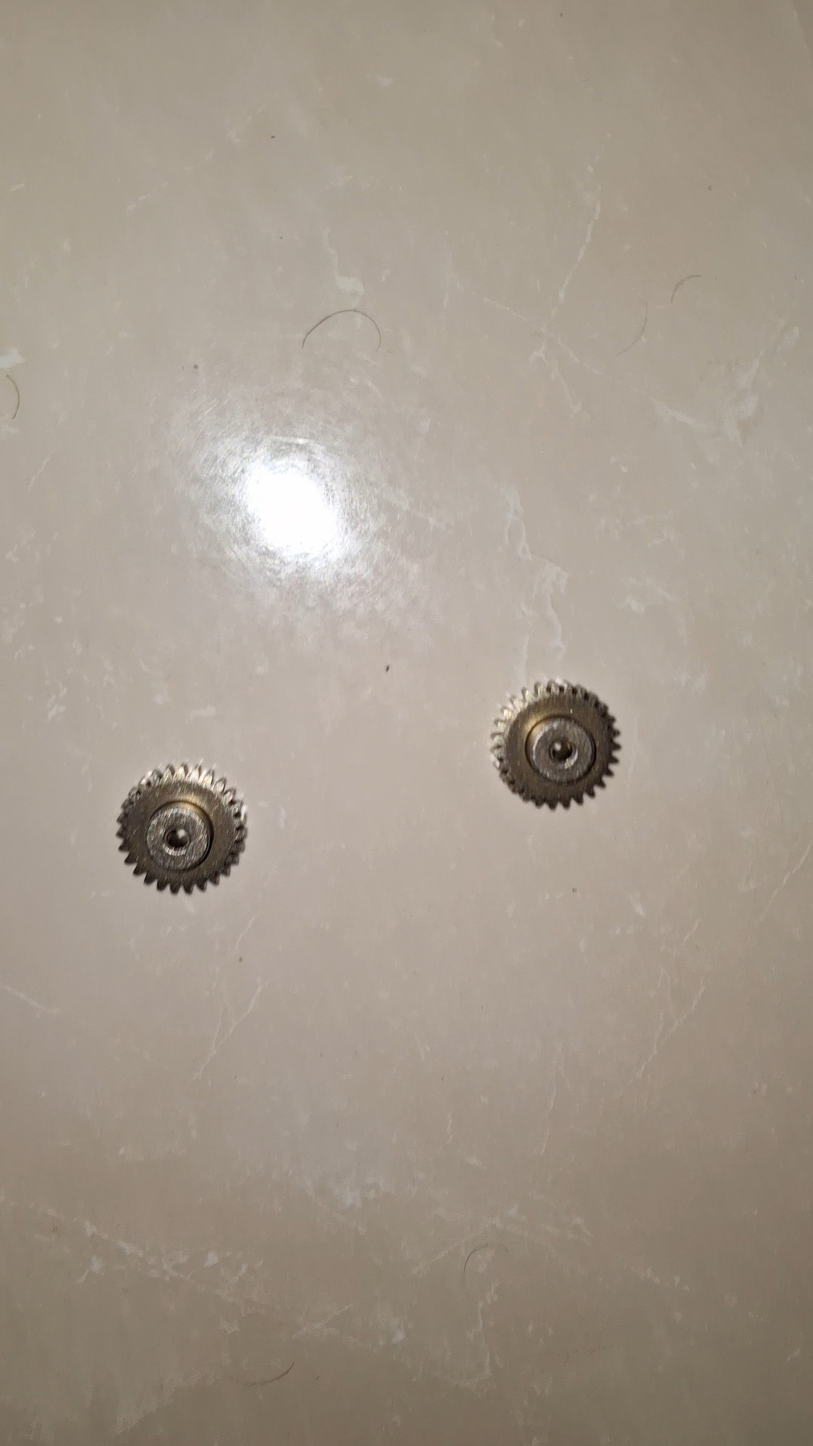spur gear: (115, 753, 242, 880), (486, 671, 613, 795)
